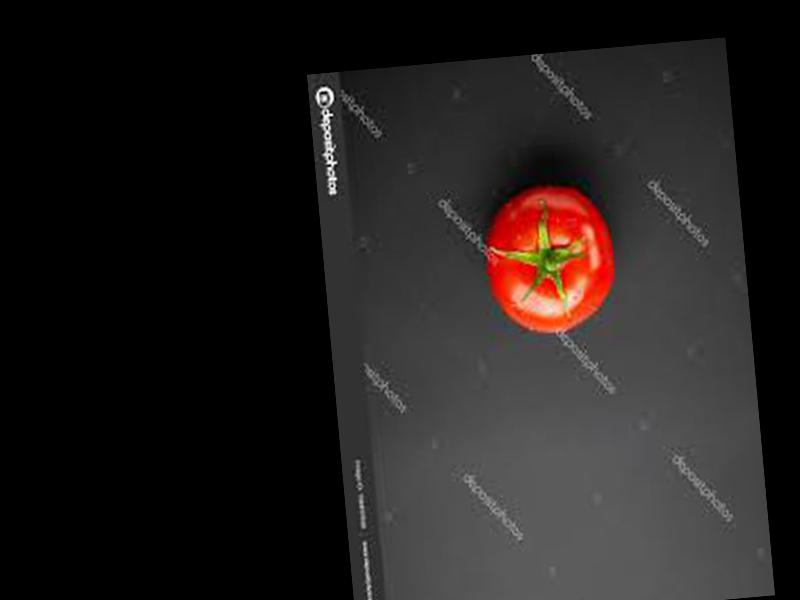Tomato: (479, 181, 621, 340)
